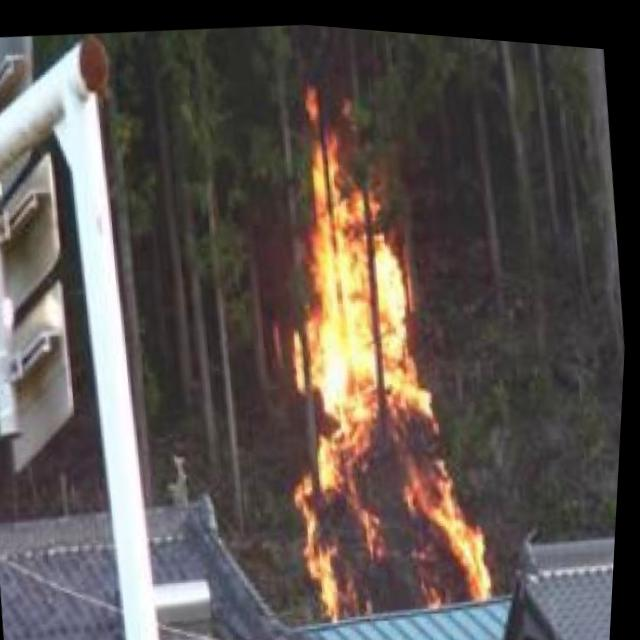Fire: (247, 81, 520, 629)
